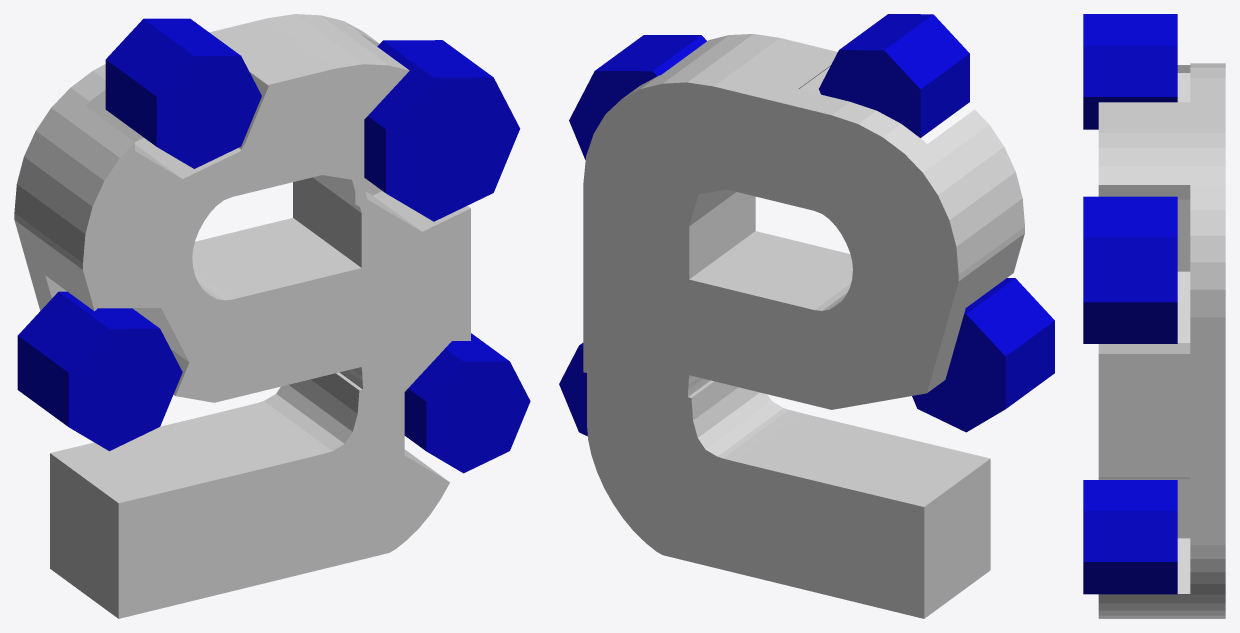
The model's file is Ch_Lite_9_01.fbx.
3 views of the same model, side by side, from view 1: azimuth 30°, elevation 25°; view 2: azimuth 150°, elevation 25°; view 3: azimuth 270°, elevation 25° (orthographic). The views are drawn at different scales.
Parts seen in each view (by area): view 1: sphere1; view 2: sphere1; view 3: sphere1.
Boxes of the visible parts, x1=… form: sphere1: x1=14, y1=14, x2=530, y2=618; sphere1: x1=559, y1=14, x2=1054, y2=618; sphere1: x1=1083, y1=14, x2=1225, y2=618.
Bounding box in the file's own units: 0.7773 × 0.8886 × 0.2242.
